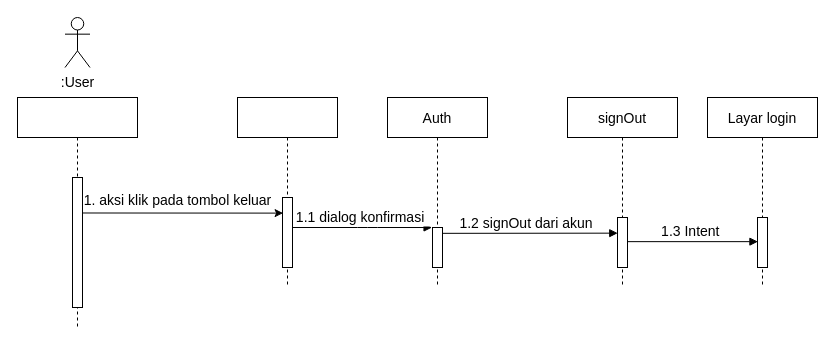
Image size: 835x345. Some labels were removed from this diagram. The box of each missing label's shape, as (x1, y1, x2, y2) in pixels:
Dialog: (236, 96, 338, 288)
Layar Akun: (16, 96, 138, 328)
